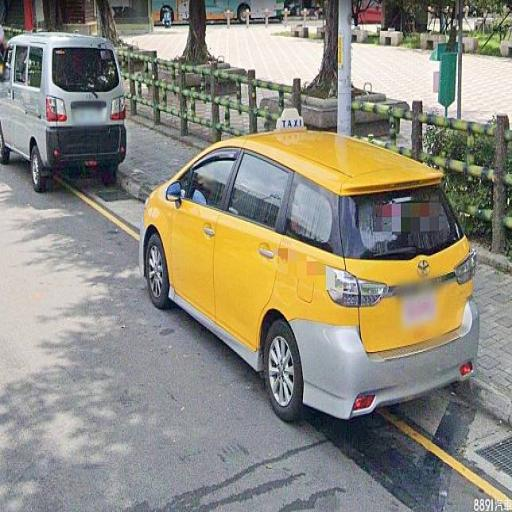car: (134, 94, 484, 438), (0, 25, 129, 198)
yellowline: (366, 393, 510, 512), (44, 162, 140, 250)
